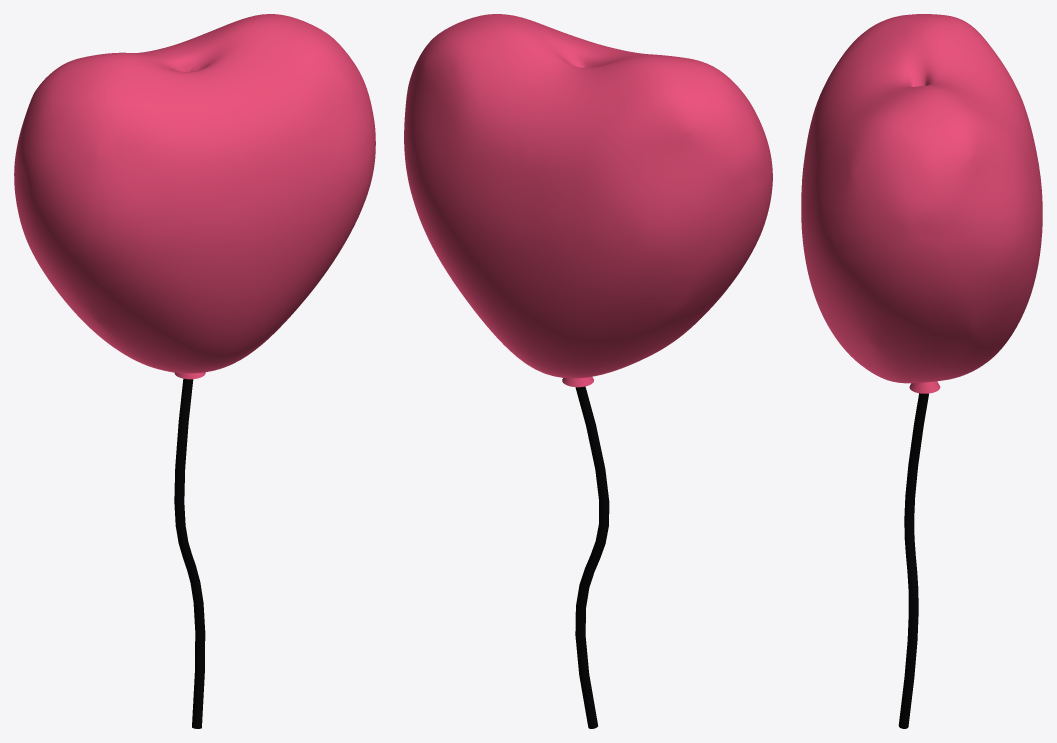
The model's file is StrapWithBalloon.fbx.
The picture shows the model from 3 angles, left to right: view 1: azimuth 30°, elevation 25°; view 2: azimuth 150°, elevation 25°; view 3: azimuth 270°, elevation 25°; orthographic projection. The views are drawn at different scales.
Parts seen in each view (by area): view 1: Circle, Strap; view 2: Circle, Strap; view 3: Circle, Strap.
Part boxes in pixels (x1,y1,x2,y2): Circle: (14, 14, 375, 373); Strap: (174, 378, 205, 728); Circle: (404, 14, 772, 378); Strap: (575, 386, 609, 728); Circle: (801, 14, 1042, 383); Strap: (898, 393, 928, 728).
Bounding box in the file's own units: 278 × 537 × 176.
